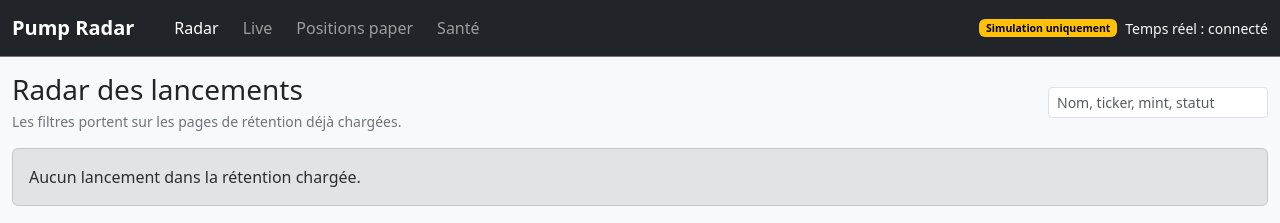
Test: read-only operator shell › adds a Live link whose page swaps the simulation badge for the read-only live badge
Expected: the text "Simulation uniquement" is shown, [979,19,1117,37]
Expected: the text "Live · lecture seule" is not shown
Step 1. Click the link "Live" → click(258, 28), box [243,17,272,39]
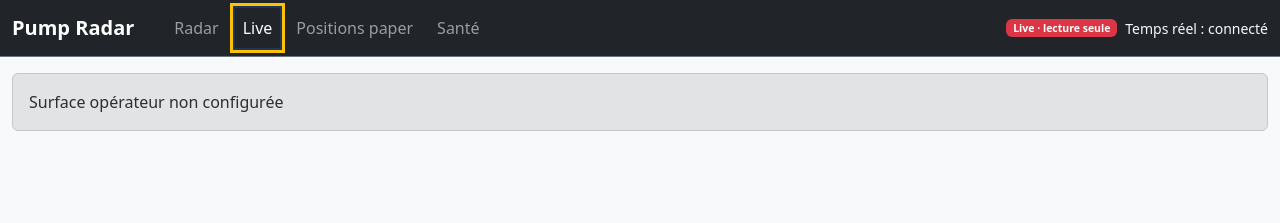
Expected: the text "Surface opérateur non configurée" is shown, [12,73,1268,131]
Expected: the text "Live · lecture seule" is shown, [1006,19,1117,37]
Expected: the text "Simulation uniquement" is gone
Step 2. Click the link "Radar" → click(196, 28), box [174,17,219,39]
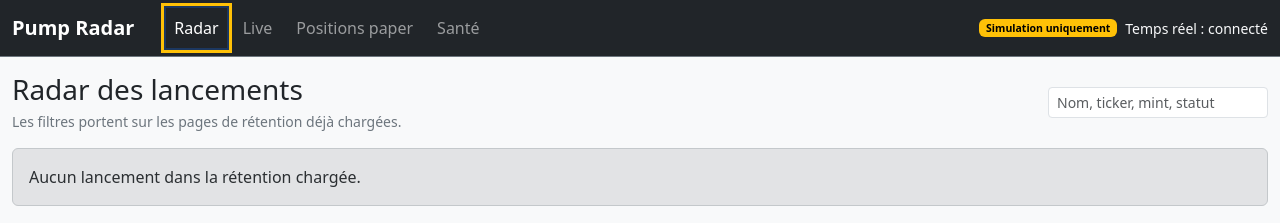
Expected: the text "Simulation uniquement" is shown, [979,19,1117,37]
